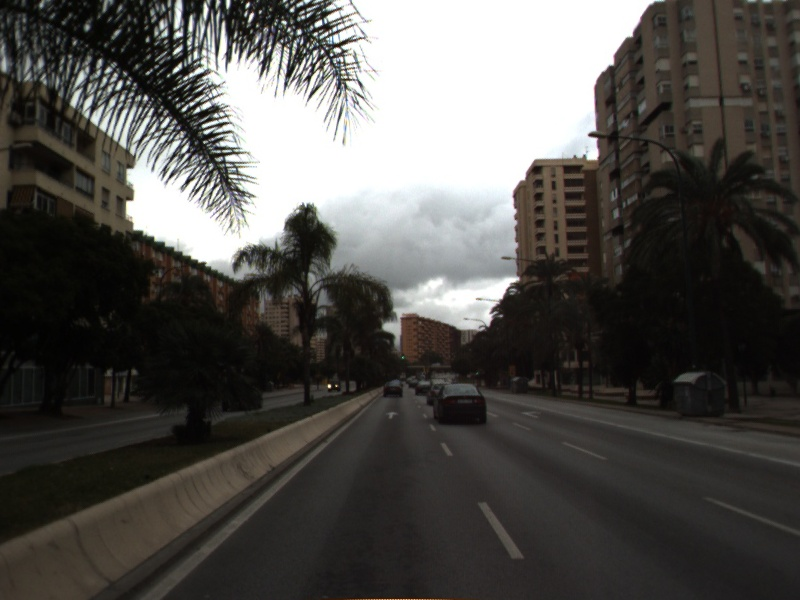RIGHT: (518, 408, 544, 420)
STRAIGHT: (383, 409, 402, 421)
